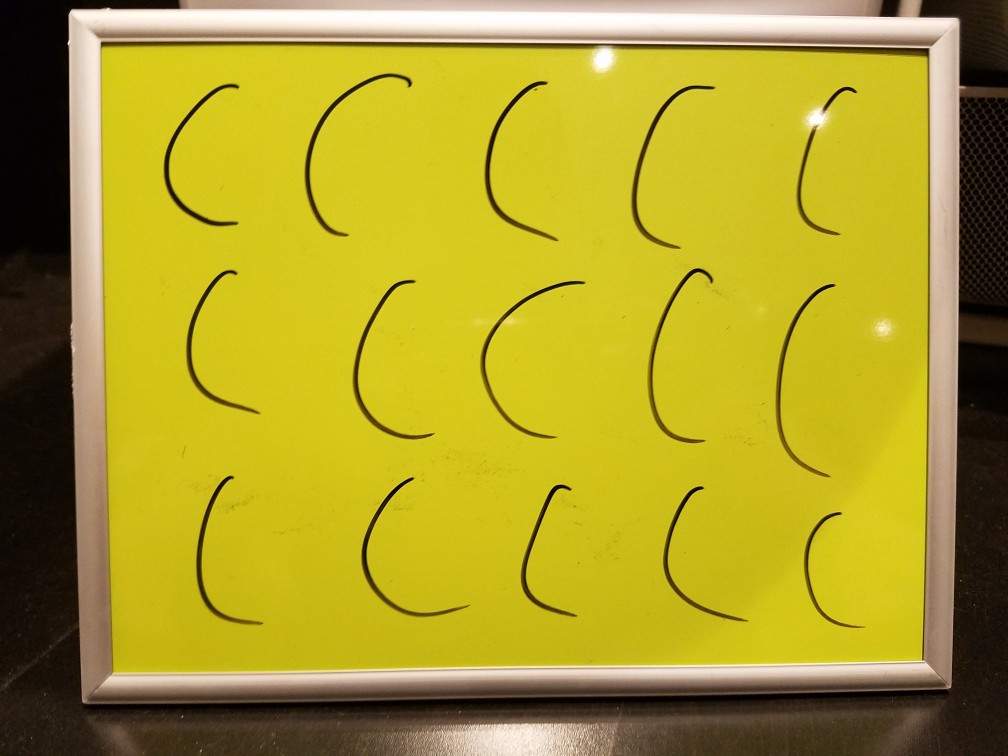(: (286, 59, 416, 256), (344, 468, 477, 633), (471, 276, 588, 448), (621, 71, 724, 253), (146, 69, 258, 234), (171, 468, 277, 634), (342, 277, 446, 446), (639, 263, 729, 458), (477, 66, 571, 252), (769, 277, 853, 481), (176, 262, 273, 426), (779, 75, 859, 251), (651, 481, 746, 624), (509, 471, 580, 626), (800, 504, 874, 642)
